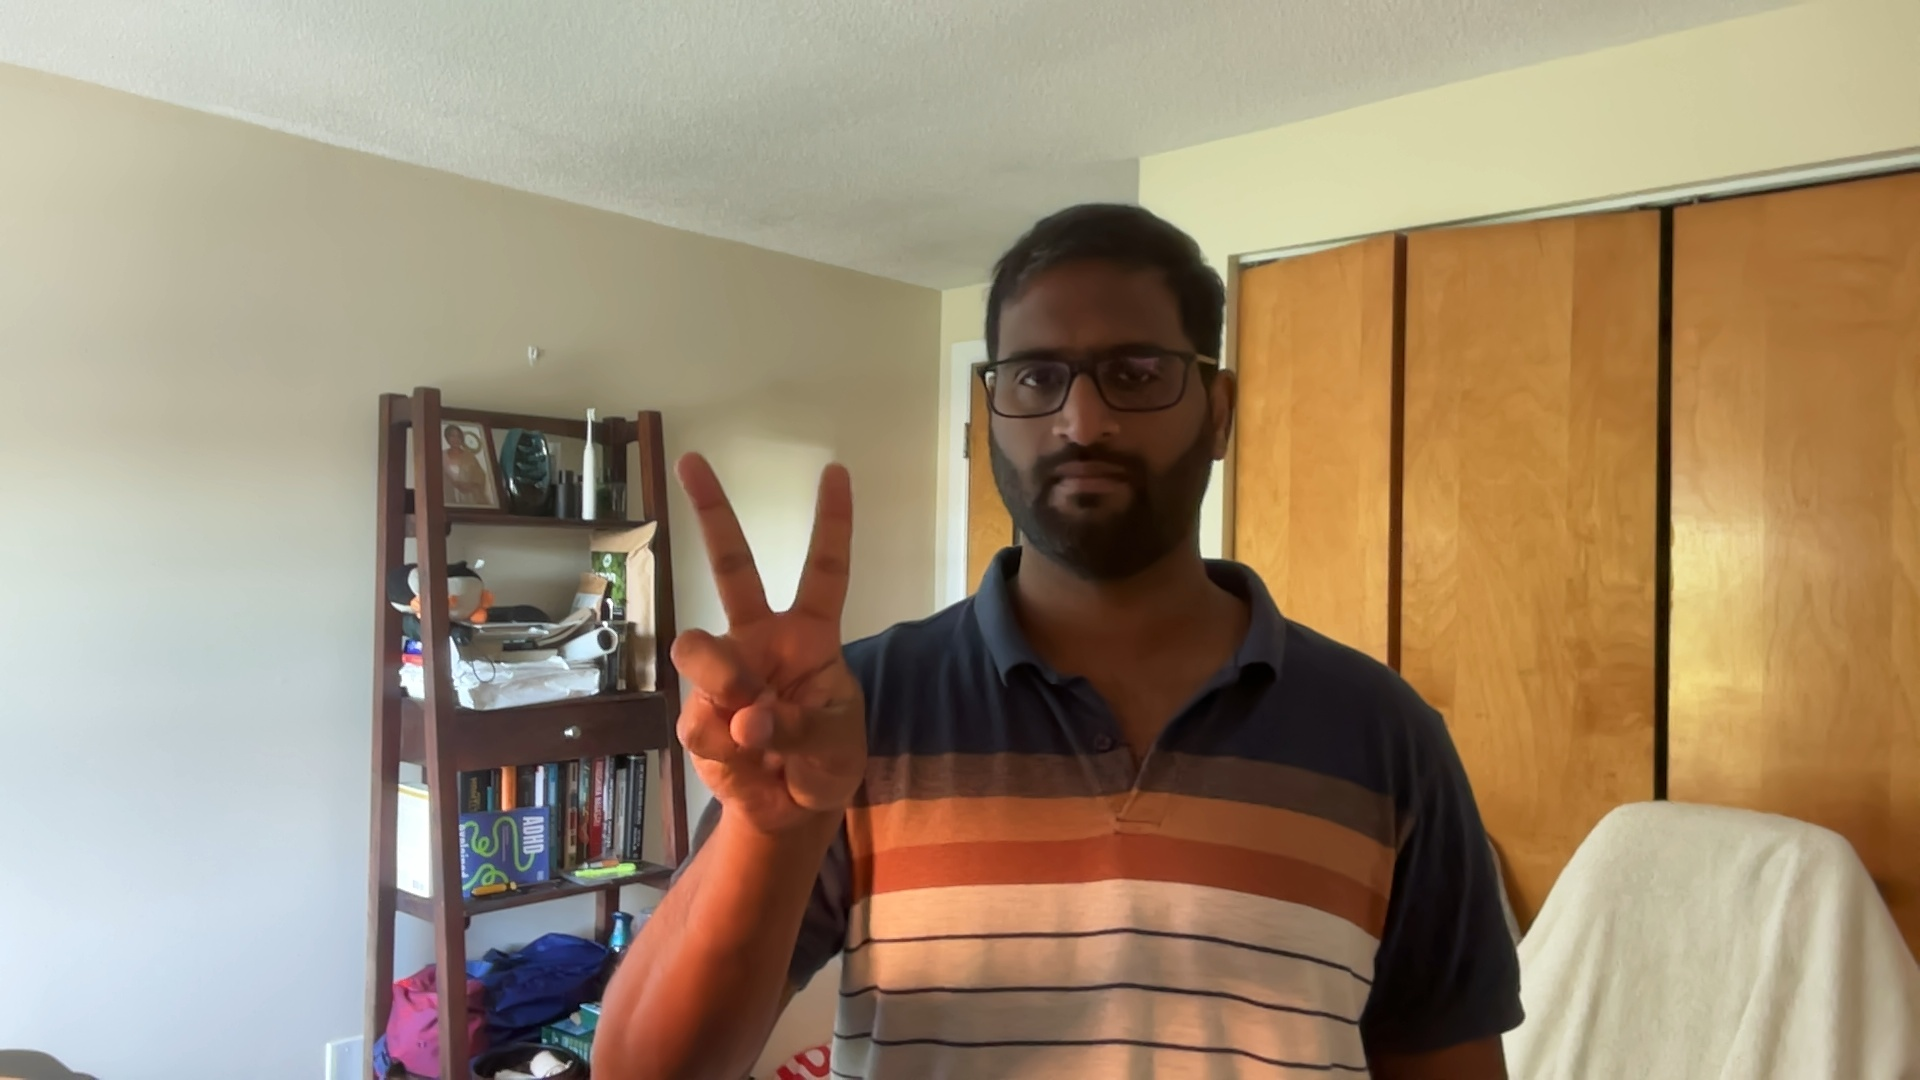PeaceOut: (669, 454, 862, 823)
